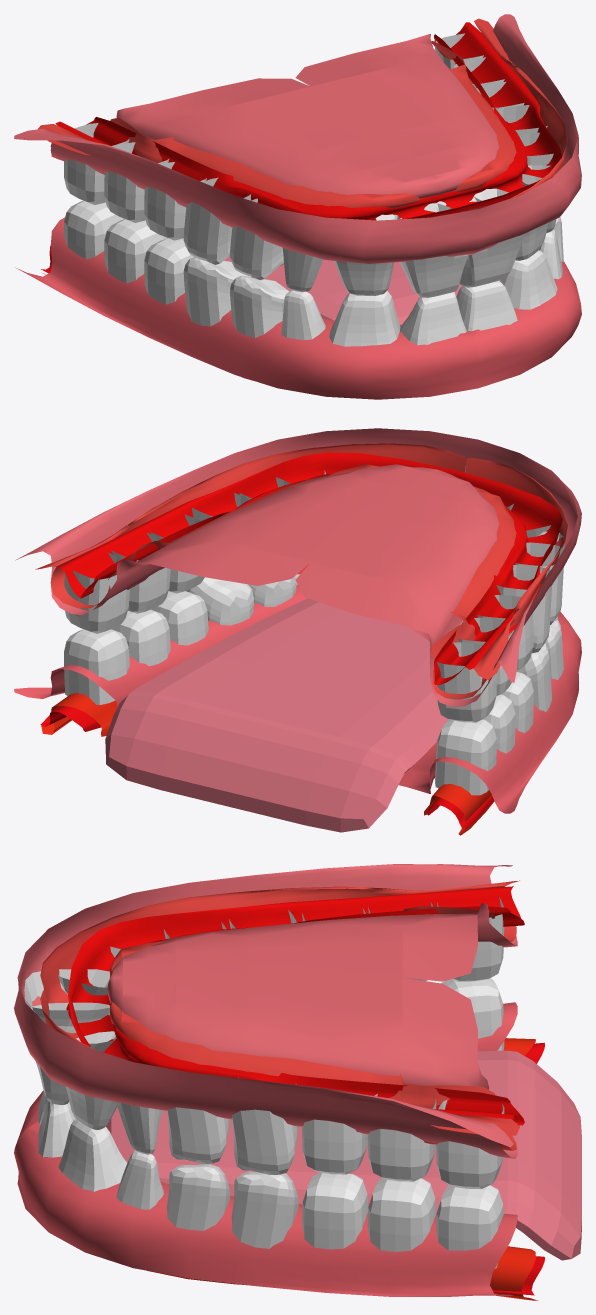
File: GumChangesNormals.fbx
3 views of the same model, one above another, from view 1: azimuth 30°, elevation 25°; view 2: azimuth 150°, elevation 25°; view 3: azimuth 270°, elevation 25° (orthographic). The views are drawn at different scales.
Visible parts, largest first — view 1: Upper gum, Lower jaw_gum, Upper gum inner 2, Upper gum inner 1, Incisor 1.001, Incisor2.001, Incisor2, Premolar 2.001, Tongue, Premolar 1.001, Premolar 1, Rear Molar 2.001 (+9 smaller); view 2: Tongue, Upper gum, Upper gum inner 2, Upper gum inner 1, Lower jaw_gum, Rear Molar 1.001, Rear Molar 1, Rear Molar 2.001, Premolar 1.001, Rear Molar 3.001, Lower gum inner 1, Rear Molar 2 (+5 smaller); view 3: Upper gum, Lower jaw_gum, Tongue, Upper gum inner 2, Upper gum inner 1, Rear Molar 1.001, Rear Molar 3.001, Premolar 1.001, Rear Molar 2.001, Rear Molar 1, Premolar 1, Premolar 2.001 (+11 smaller).
Part boxes in pixels (box(x1,y1,x2,y2)): Upper gum: box(14, 14, 581, 263); Lower jaw_gum: box(15, 217, 581, 399); Upper gum inner 2: box(55, 22, 561, 220); Upper gum inner 1: box(38, 18, 567, 212); Incisor 1.001: box(329, 250, 557, 346); Incisor2.001: box(400, 280, 517, 345); Incisor2: box(375, 188, 525, 297); Premolar 2.001: box(230, 217, 563, 337); Tongue: box(224, 256, 500, 324); Premolar 1.001: box(183, 257, 250, 326); Premolar 1: box(183, 105, 547, 264); Rear Molar 2.001: box(104, 219, 167, 283); Tongue: box(105, 598, 448, 832); Upper gum: box(15, 428, 581, 706); Upper gum inner 2: box(56, 452, 562, 684); Upper gum inner 1: box(35, 443, 567, 699); Lower jaw_gum: box(14, 584, 581, 813); Rear Molar 1.001: box(64, 629, 496, 795); Rear Molar 1: box(64, 552, 496, 722); Rear Molar 2.001: box(111, 609, 515, 753); Premolar 1.001: box(186, 577, 551, 711); Rear Molar 3.001: box(151, 591, 533, 733); Lower gum inner 1: box(41, 693, 494, 835); Rear Molar 2: box(111, 533, 514, 695); Upper gum: box(14, 864, 517, 1158); Lower jaw_gum: box(14, 1002, 517, 1296); Tongue: box(106, 1050, 581, 1260); Upper gum inner 2: box(66, 886, 524, 1125); Upper gum inner 1: box(40, 880, 520, 1150); Rear Molar 1.001: box(436, 978, 504, 1268); Rear Molar 3.001: box(302, 1172, 368, 1249); Premolar 1.001: box(231, 1171, 298, 1248); Rear Molar 2.001: box(367, 1178, 435, 1251); Rear Molar 1: box(436, 897, 504, 1188); Premolar 1: box(229, 909, 298, 1174); Premolar 2.001: box(167, 1164, 229, 1230).
Bounding box in the file's own units: 344 × 125 × 294.
